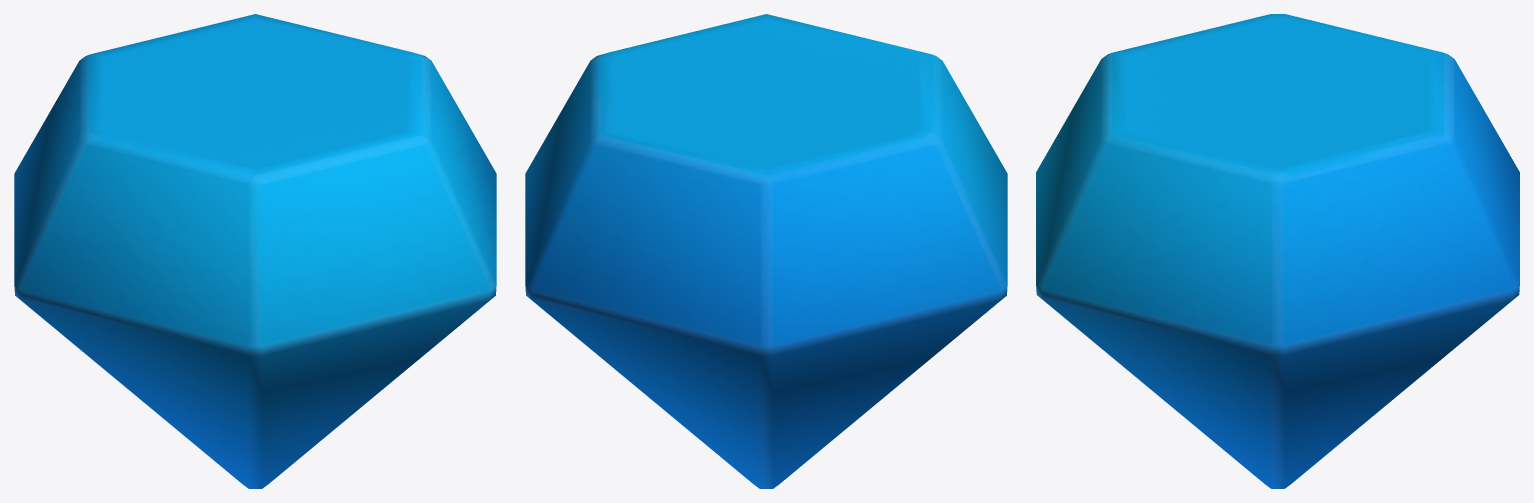
Rendered from Diamond_Blue.FBX.
3 renders of one model, left to right at view 1: azimuth 30°, elevation 25°; view 2: azimuth 150°, elevation 25°; view 3: azimuth 270°, elevation 25°, orthographic.
Parts seen in each view (by area): view 1: Diamond_Blue; view 2: Diamond_Blue; view 3: Diamond_Blue.
Boxes of the visible parts, box(x1,y1,x2,y2) form: Diamond_Blue: box(14, 14, 496, 488); Diamond_Blue: box(525, 14, 1007, 488); Diamond_Blue: box(1036, 14, 1519, 488).
Bounding box in the file's own units: 77.45 × 60.55 × 67.94.
1 material, 1 textured.
